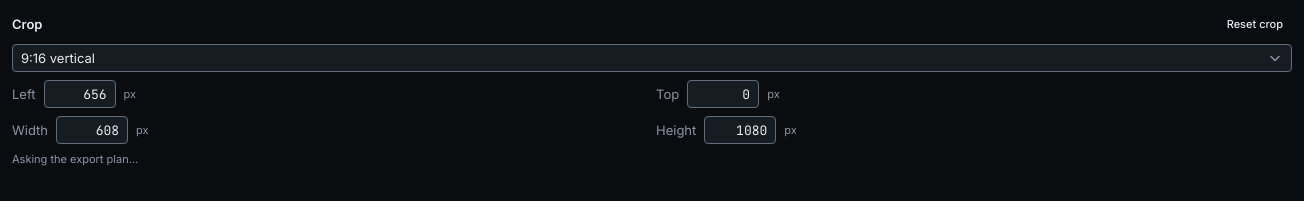
it: the crop section › shows a refusal at the field it came from
Replace the text in the number field labelled "Width" with "1500": (92, 130) [56,116,128,144]
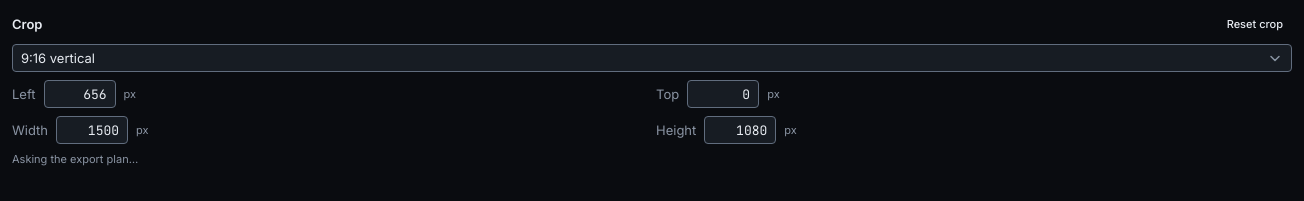
Leave the number field labelled "Width", box [56,116,128,144]
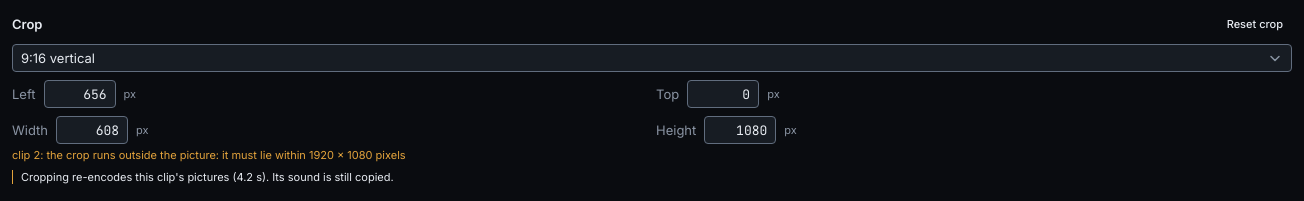
Result: the message shows "must lie within 1920 × 1080" at [12,148,406,162]
